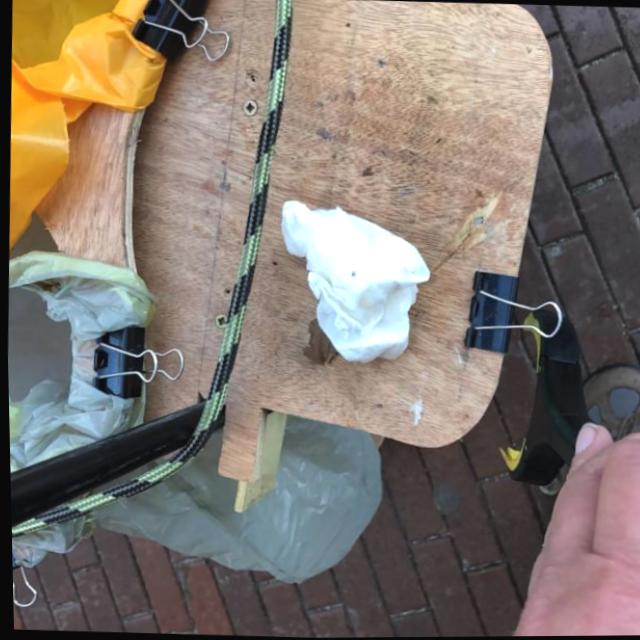Paper: (271, 195, 434, 366)
